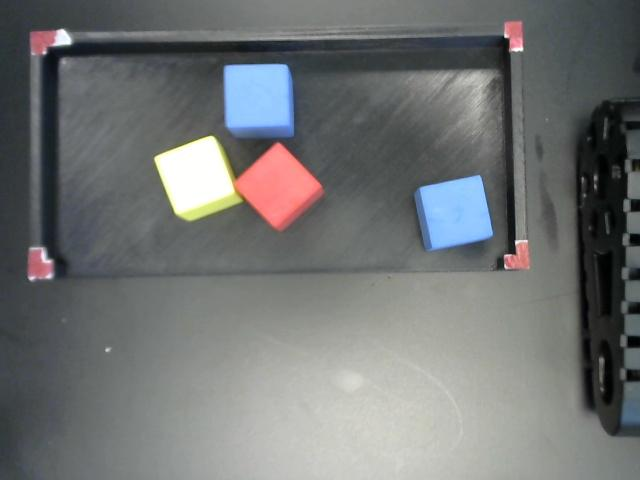cube: (234, 142, 323, 234), (157, 136, 243, 223), (418, 173, 495, 253), (225, 64, 297, 141)
